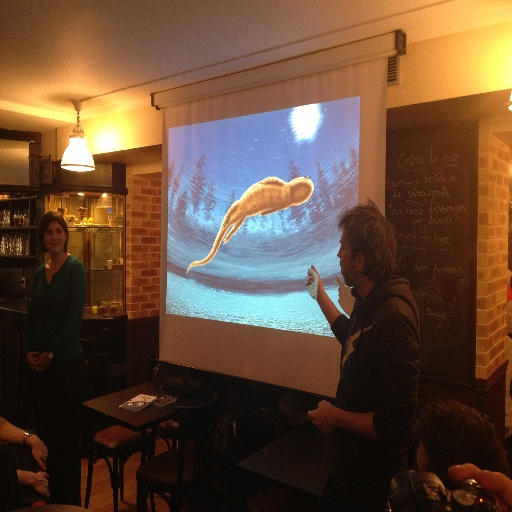hand: (305, 311, 416, 440), (445, 462, 511, 511), (303, 263, 323, 301), (33, 467, 51, 501), (29, 438, 48, 470), (29, 350, 51, 370), (24, 348, 40, 371)
